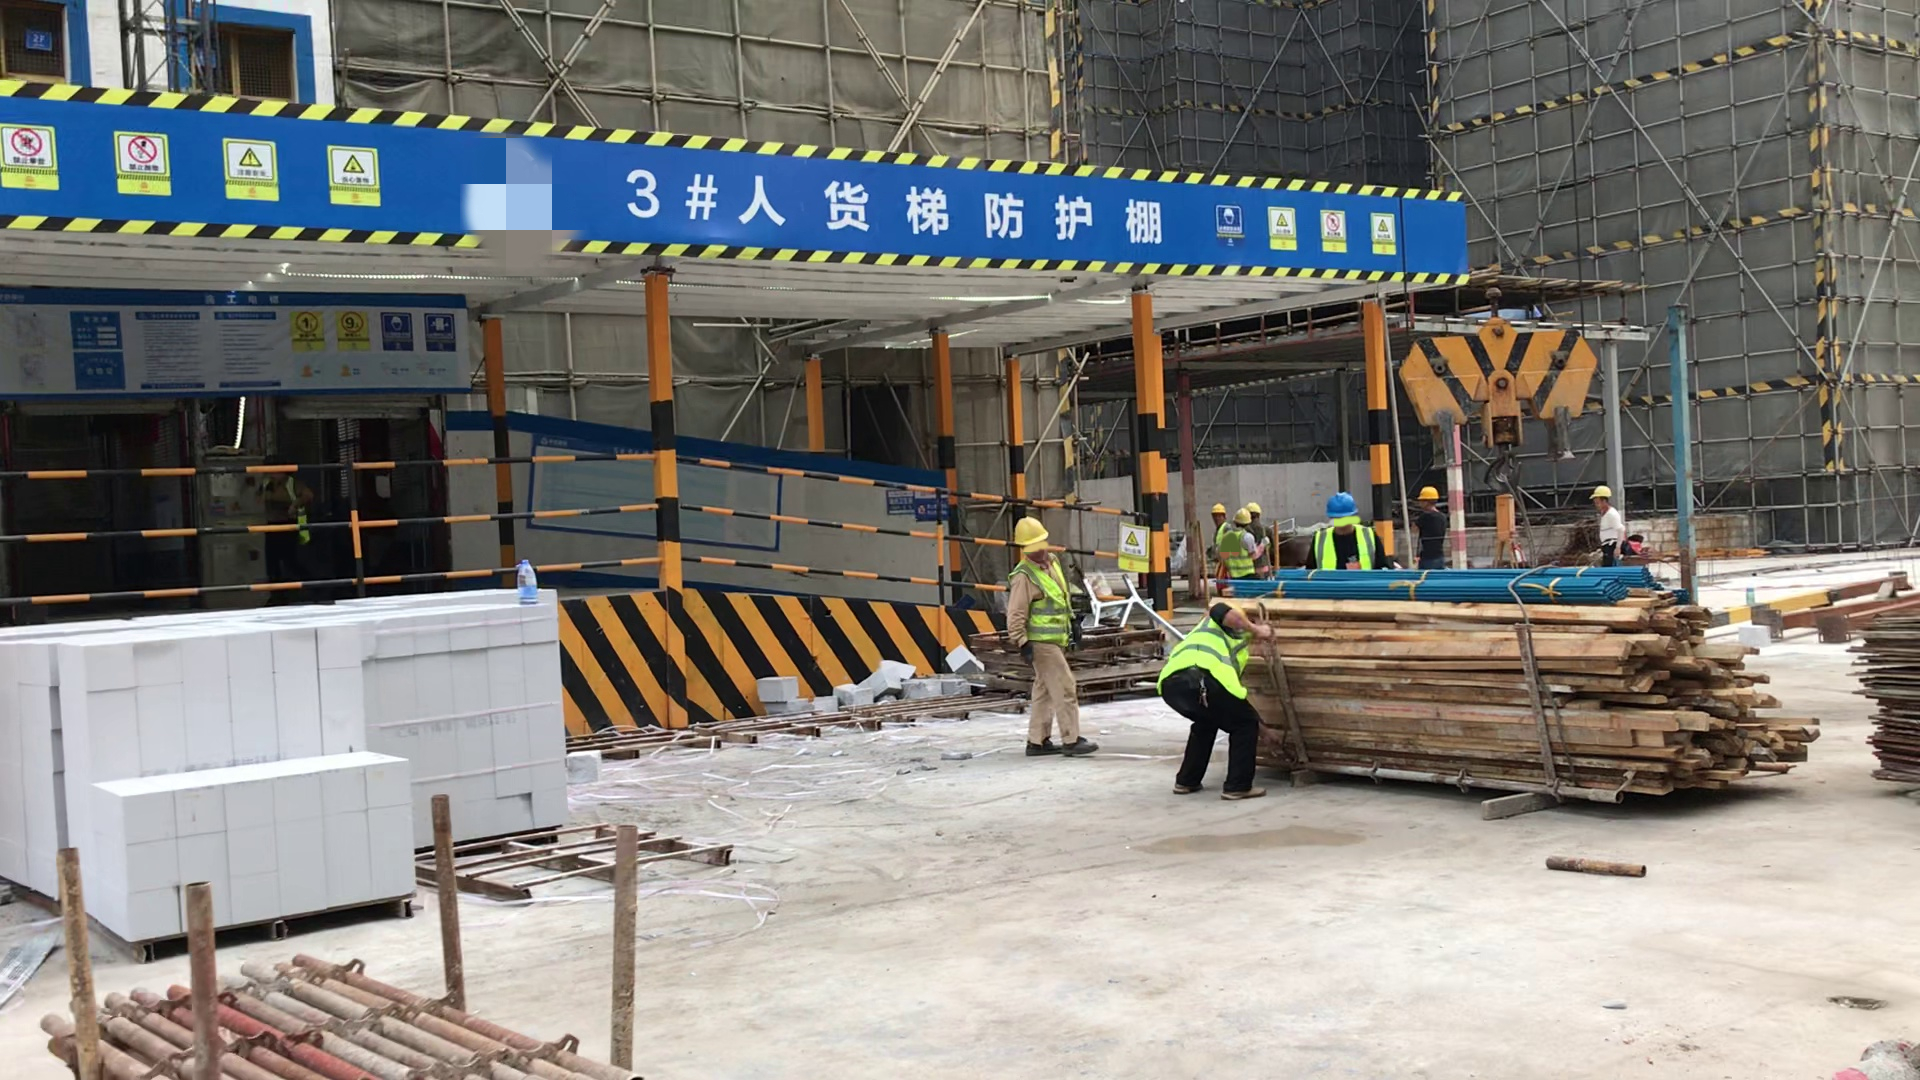board: (1859, 612, 1920, 786)
brick: (6, 616, 421, 937), (313, 589, 575, 843)
ebox: (1493, 497, 1519, 560)
helmet: (1013, 518, 1049, 544), (1328, 494, 1358, 516), (1418, 487, 1439, 501), (1234, 509, 1251, 526), (1590, 486, 1611, 500), (1212, 503, 1227, 514), (1246, 504, 1262, 514)
hook: (1400, 299, 1602, 492)
person: (1162, 603, 1265, 801), (1012, 522, 1089, 757), (1313, 496, 1389, 585), (1590, 486, 1623, 570), (1416, 484, 1446, 570), (1225, 510, 1259, 578), (1209, 501, 1224, 551)
scaffold: (47, 954, 642, 1080)
slogan: (1, 125, 396, 222), (1212, 199, 1409, 266), (292, 304, 458, 379), (1112, 523, 1150, 580)
vest: (1166, 620, 1251, 701), (1013, 557, 1071, 645), (1319, 529, 1383, 577), (1223, 533, 1256, 581), (1212, 523, 1229, 553)
wood: (1251, 601, 1802, 792)
